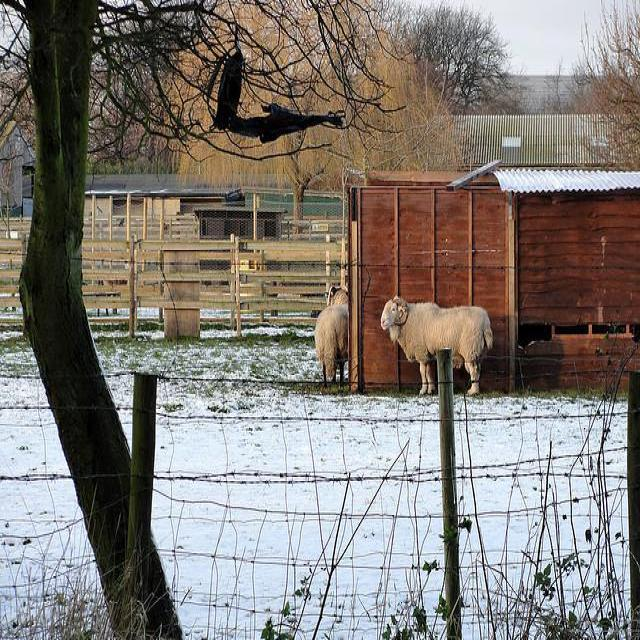Sheep: (381, 296, 493, 397), (315, 286, 350, 388)
